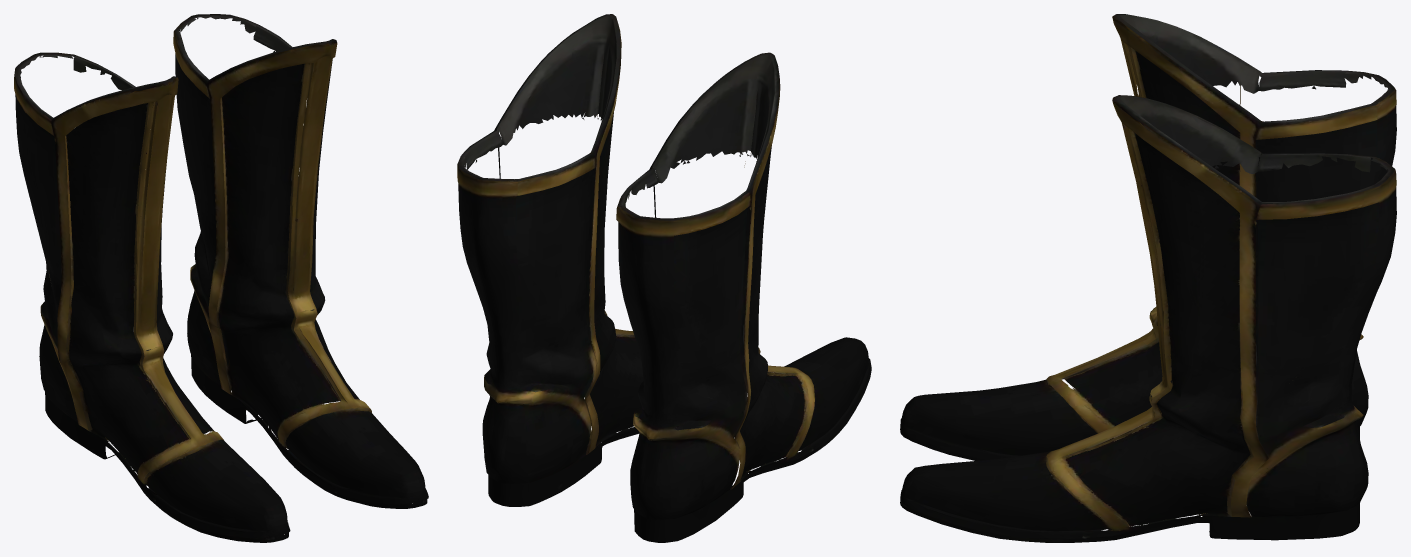
File: assassin_m_boots.glb
The picture shows the model from 3 angles, left to right: view 1: azimuth 30°, elevation 25°; view 2: azimuth 150°, elevation 25°; view 3: azimuth 270°, elevation 25°; orthographic projection. The views are drawn at different scales.
Parts seen in each view (by area): view 1: lo; view 2: lo; view 3: lo.
Part boxes in pixels (left/top/right/bottom): lo: left=14, top=14, right=428, bottom=542; lo: left=457, top=14, right=871, bottom=542; lo: left=900, top=14, right=1396, bottom=542.
Bounding box in the file's own units: 0.304 × 0.46 × 0.48.
1 material, 1 textured.
